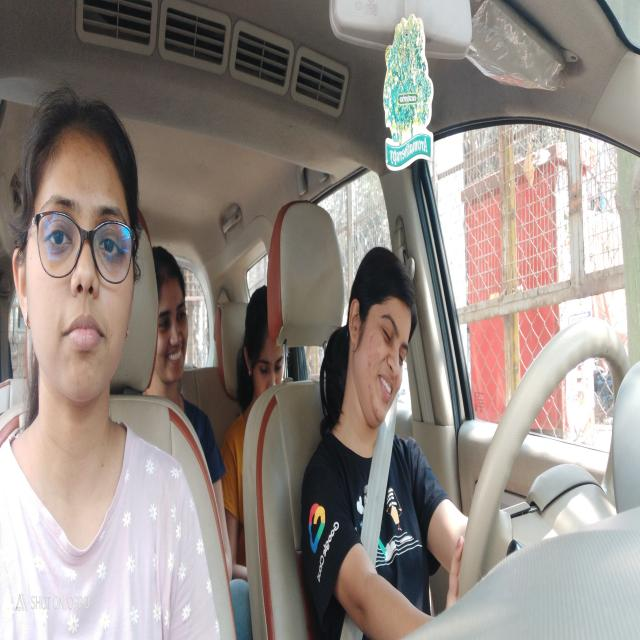drowsy: (346, 230, 419, 438)
person: (10, 84, 140, 404), (152, 236, 192, 402), (241, 285, 292, 415)
